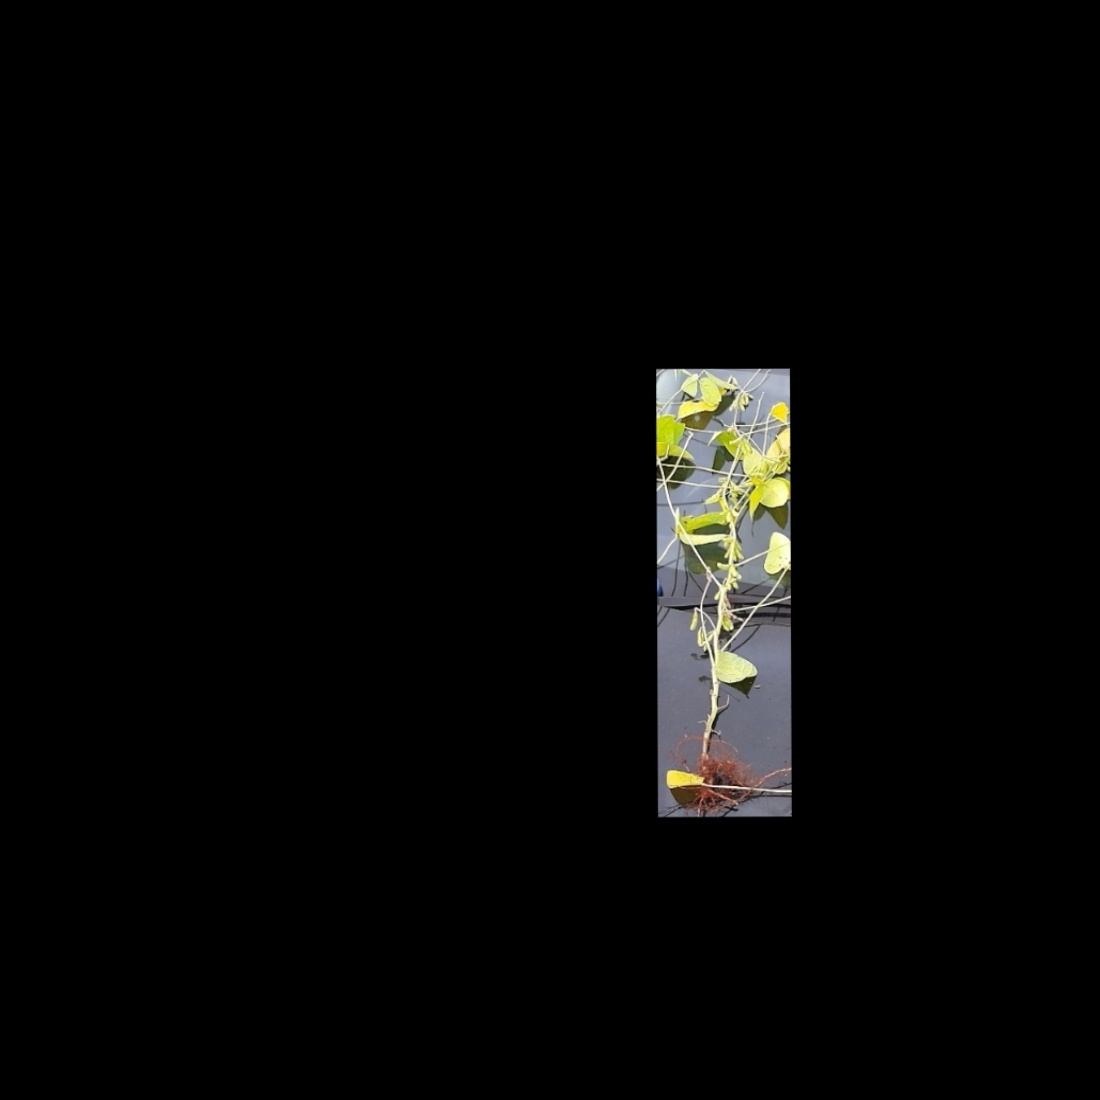pod: (687, 607, 700, 633), (715, 560, 733, 573), (734, 543, 744, 562), (720, 536, 738, 545)
soy: (662, 377, 788, 803)
